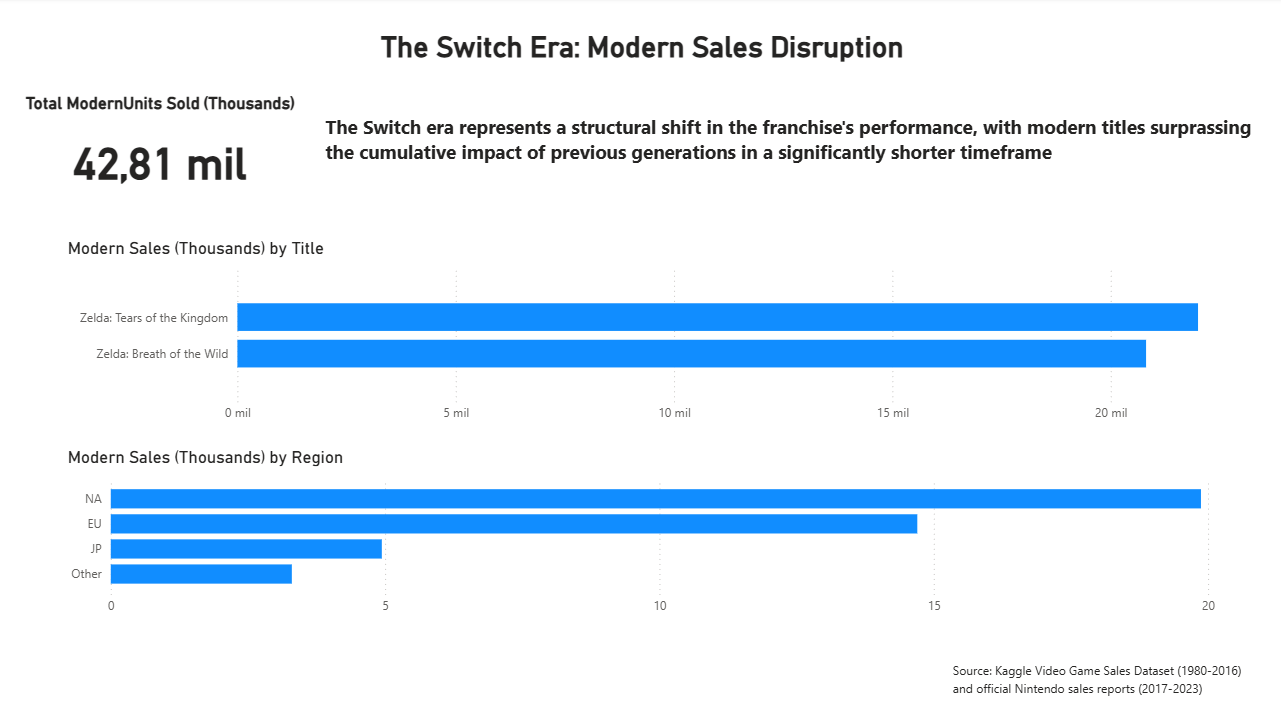

What the dashboard file says about the page in this screenshot:
{"tool":"powerbi","page":{"name":"The Switch Era: Modern Sales Disruption ","canvas":[1280,720],"ordinal":2},"visuals":[{"type":"textbox","title":"The Switch Era: Modern Sales Disruption ","box":[0,32,1280,32],"z":0},{"type":"card","title":"Total ModernUnits Sold (Thousands)","fields":{"Values":["Anexar1.Modern Sales (Thousands)"]},"box":[16,96,288,112],"z":1000},{"type":"clusteredBarChart","title":"Modern Sales (Thousands) by Title","fields":{"Category":["Zelda_Modern.Name"],"Y":["Anexar1.Modern Sales (Thousands)"]},"box":[64,240,1152,192],"z":2000},{"type":"clusteredBarChart","title":"Modern Sales (Thousands) by Region ","fields":{"Category":["Zelda_Modern.Region "],"Y":["vgsales.Modern Sales"]},"box":[64,448,1152,176],"z":3000},{"type":"textbox","box":[320,112,944,80],"z":4000},{"type":"textbox","box":[944,656,304,48],"z":4001}]}

Visuals, with their boxes in screenshot pixels (x1, y1, x2, y2), scaled from the page's 1280x720 canvas onto the 1281x717 screenshot:
"The Switch Era: Modern Sales Disruption " textbox: locate(0, 32, 1280, 64)
"Total ModernUnits Sold (Thousands)" card: locate(16, 96, 304, 207)
"Modern Sales (Thousands) by Title" clusteredBarChart: locate(64, 239, 1217, 430)
"Modern Sales (Thousands) by Region " clusteredBarChart: locate(64, 446, 1217, 621)
textbox: locate(320, 112, 1265, 191)
textbox: locate(945, 653, 1249, 701)
